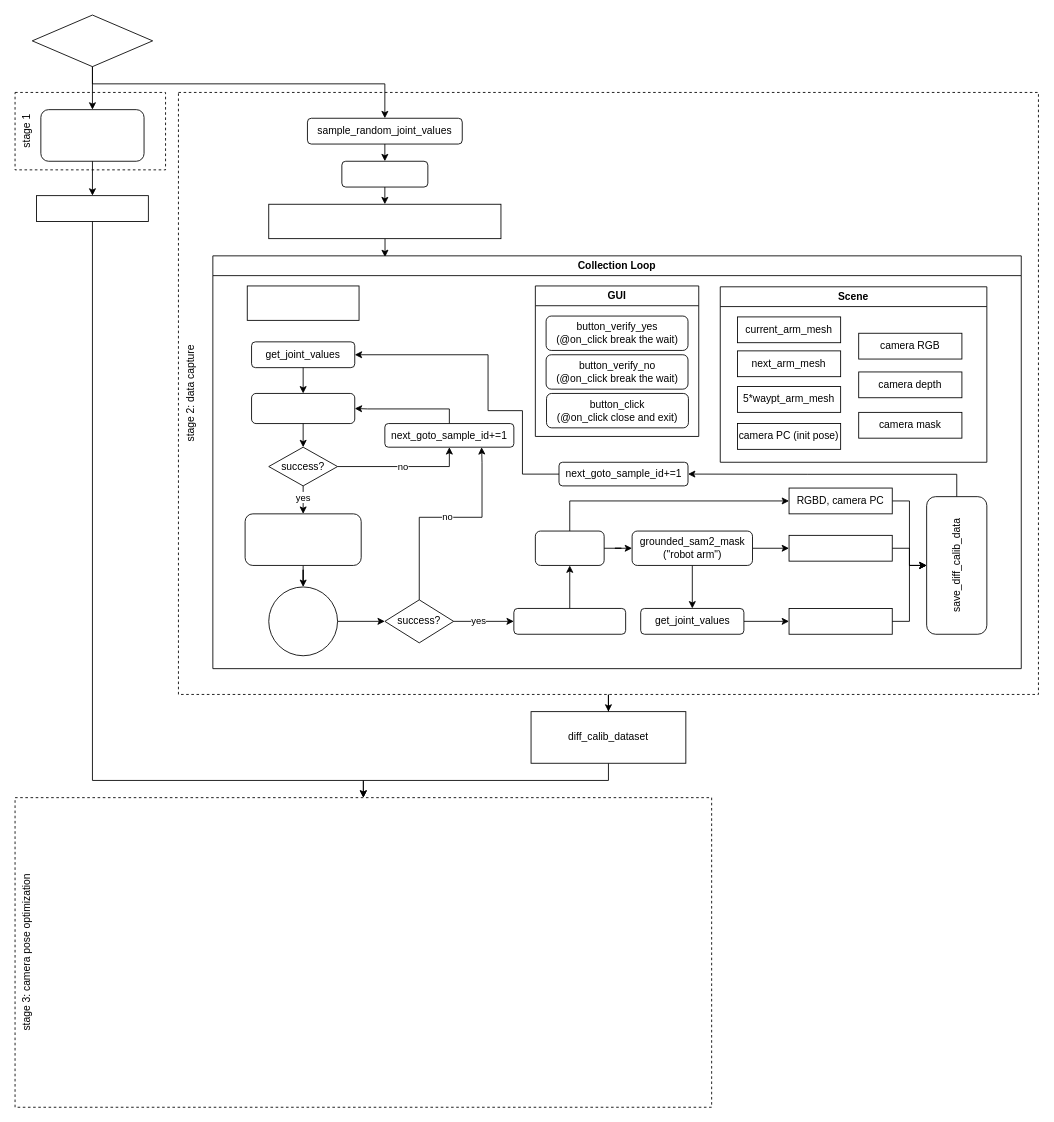
This 1054x1122 diagram has some shape labels left out. The shapes that lost their labels are listed below. From the top down, each one's centre as x and y in pixels, then its label:
At (92,40): "Start".
At (92,135): "tune in GUI to get init_X_BaseCamera".
At (384,173): "collision_check".
At (92,208): "init_X_BaseCamera".
At (384,221): "collision_free_joint_values (also add zero_joint_values to be the first one)".
At (302,302): "next_goto_sample_id (init=0)".
At (303,408): "mplib_plan(current, next_joint_values)".
At (302,539): "update_viser_scene (current_arm_mesh, target_arm_mesh, waypt_arm_mesh_list)".
At (569,547): "take picture".
At (840,547): "mask".
At (303,621): "wait for gui vis verify".
At (569,621): "set_joint_values_seq".
At (840,621): "joint_values".
